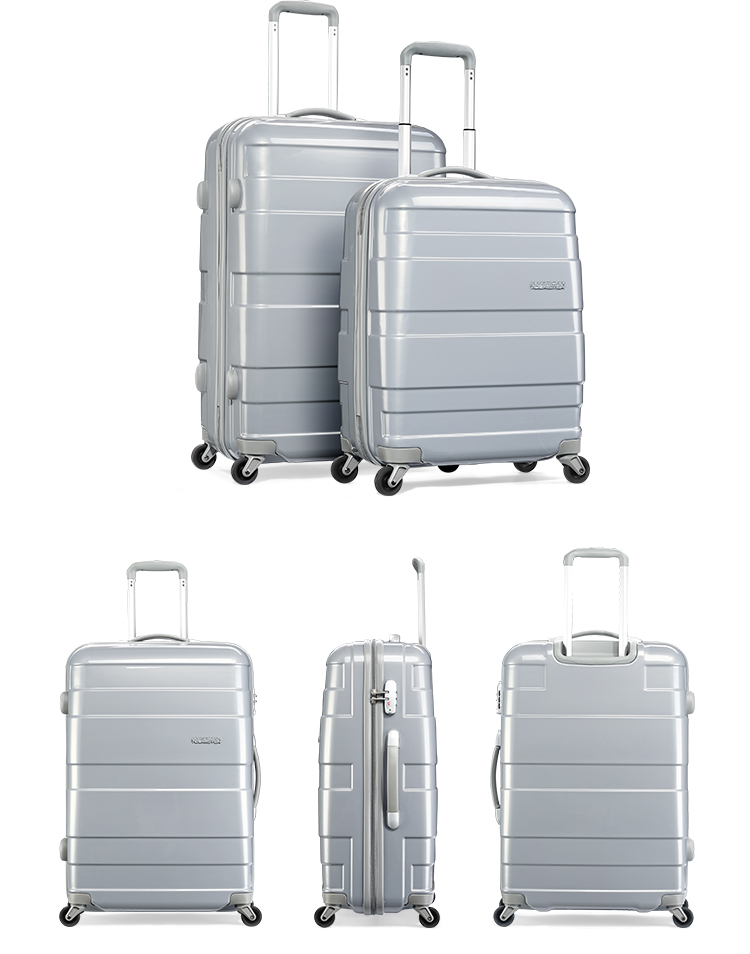luggage: (491, 549, 695, 930), (57, 560, 264, 926), (313, 558, 441, 927)
